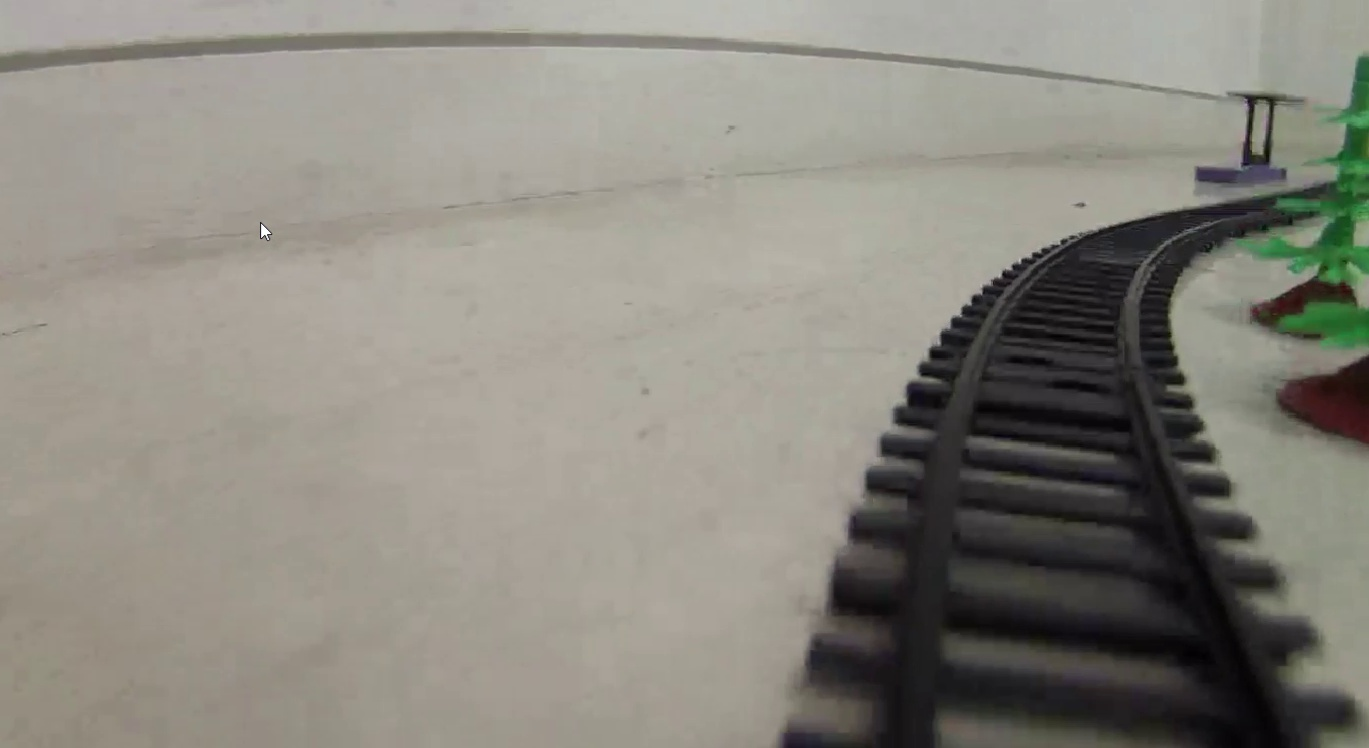tree: (1270, 44, 1369, 349)
